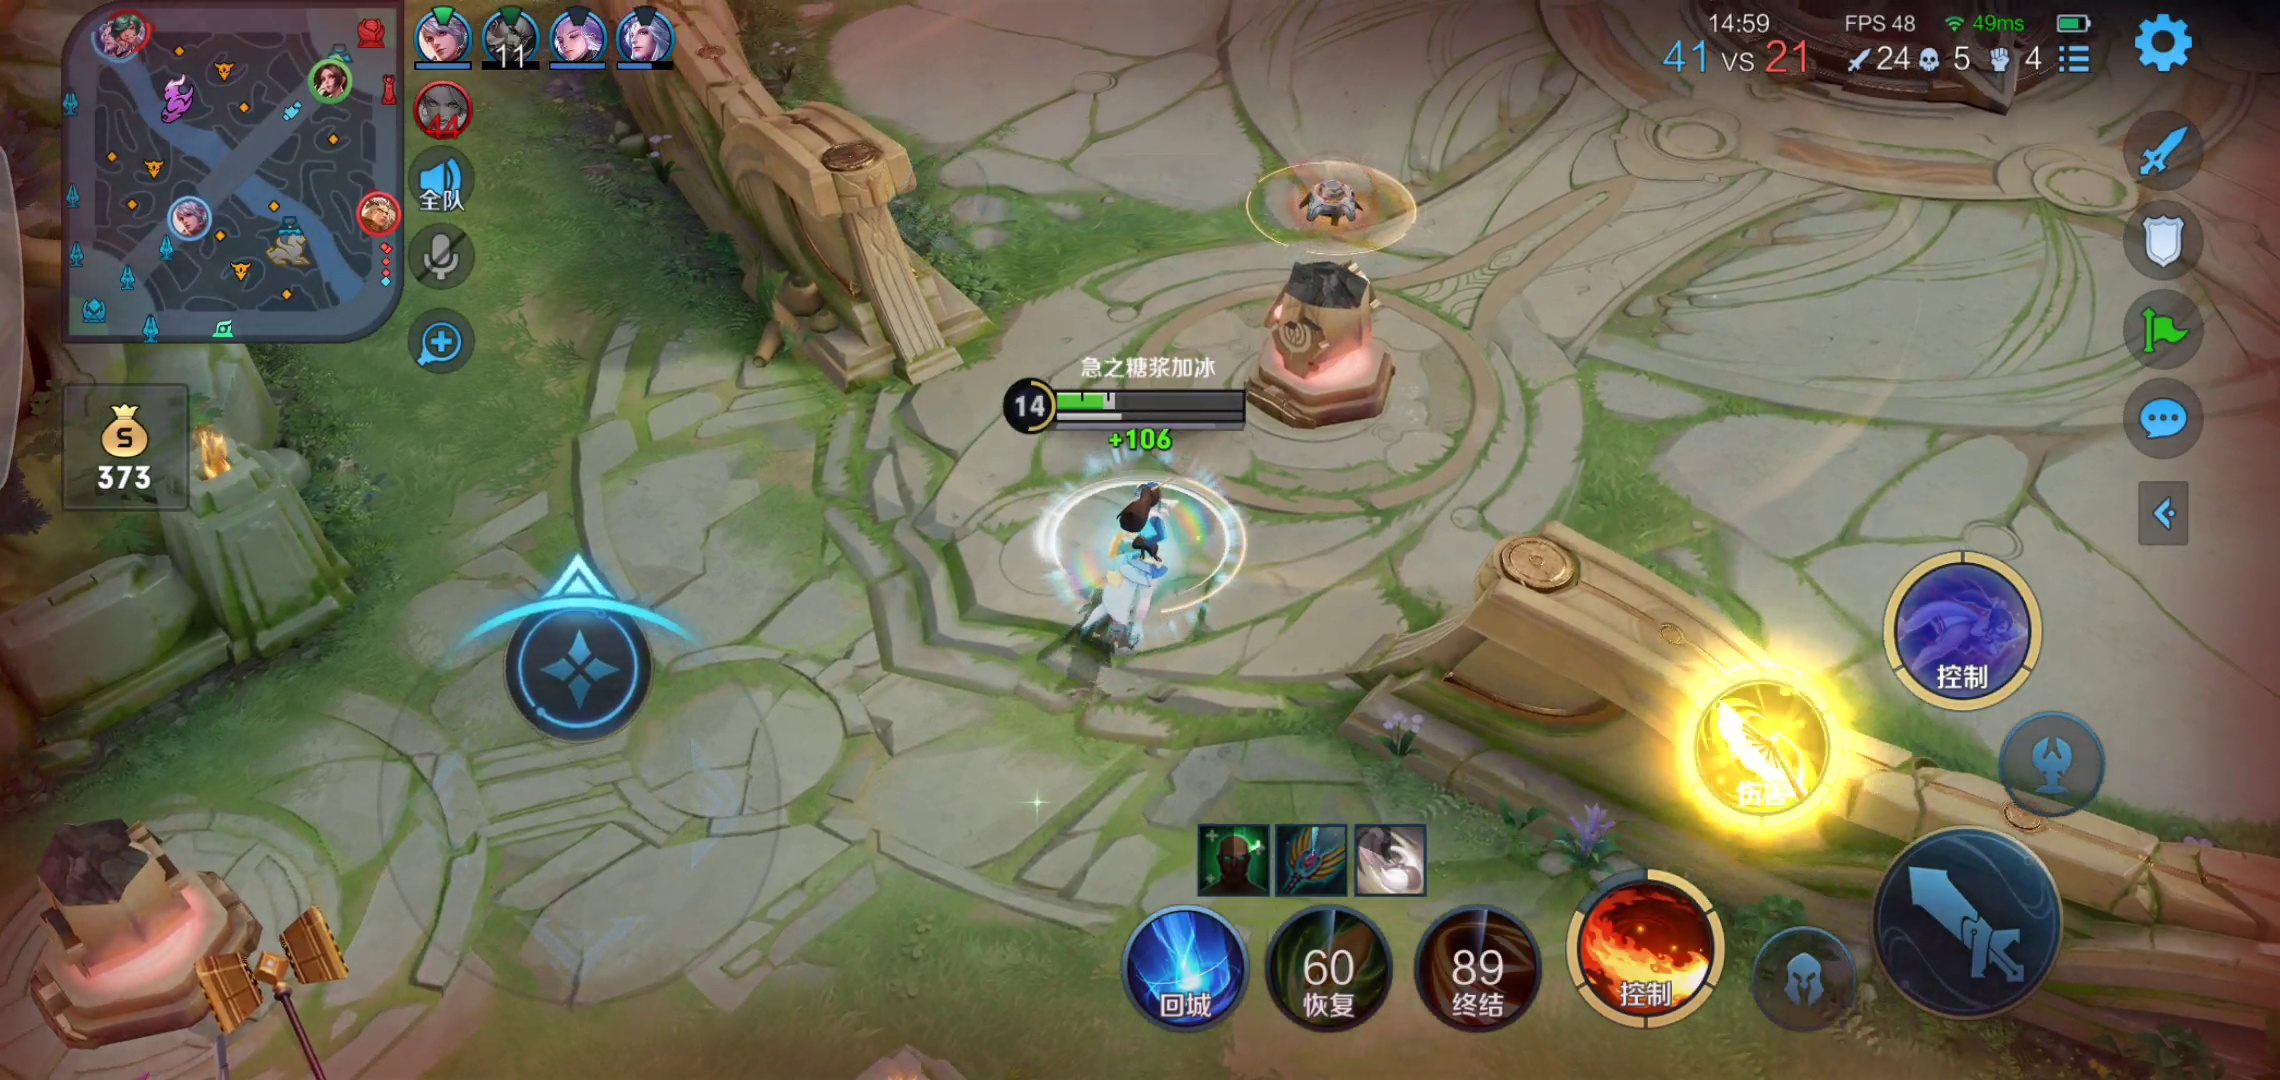hero: (1040, 462, 1210, 674)
tower: (19, 805, 265, 1049), (1243, 235, 1405, 440)
